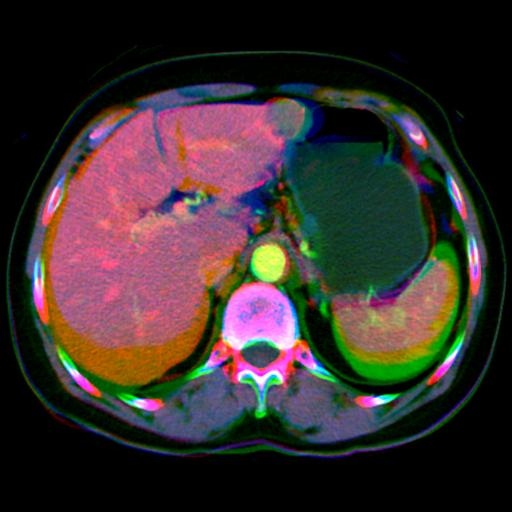Tumor: (266, 100, 304, 138)
